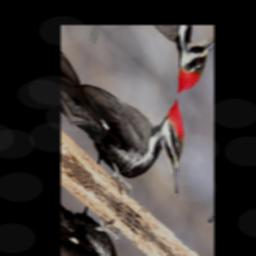Woodpecker: (65, 28, 200, 234)
